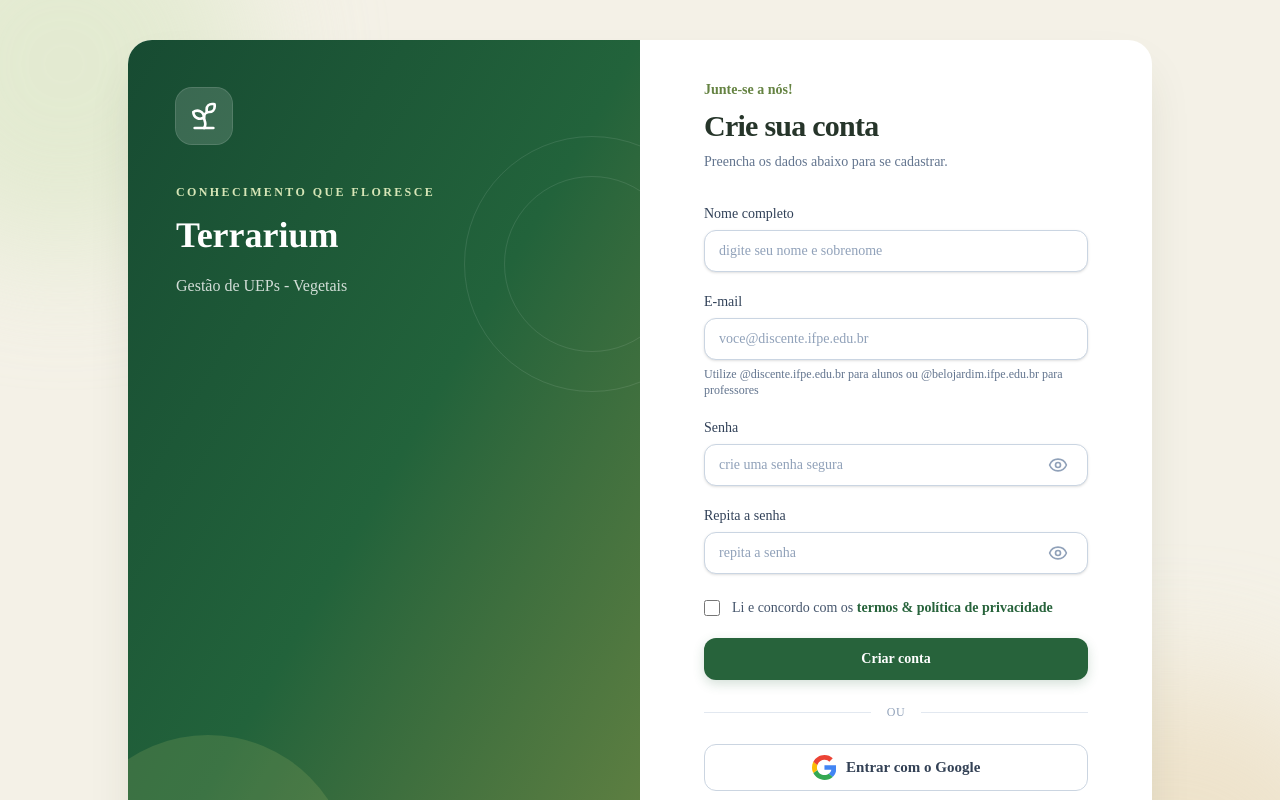
Test: RegisterPage › deve exibir erro se o e-mail for informado em formato inválido
Type "Isabela Santos" into the field labelled "Nome completo" at (896, 251), box x1=704 y1=230 x2=1088 y2=272
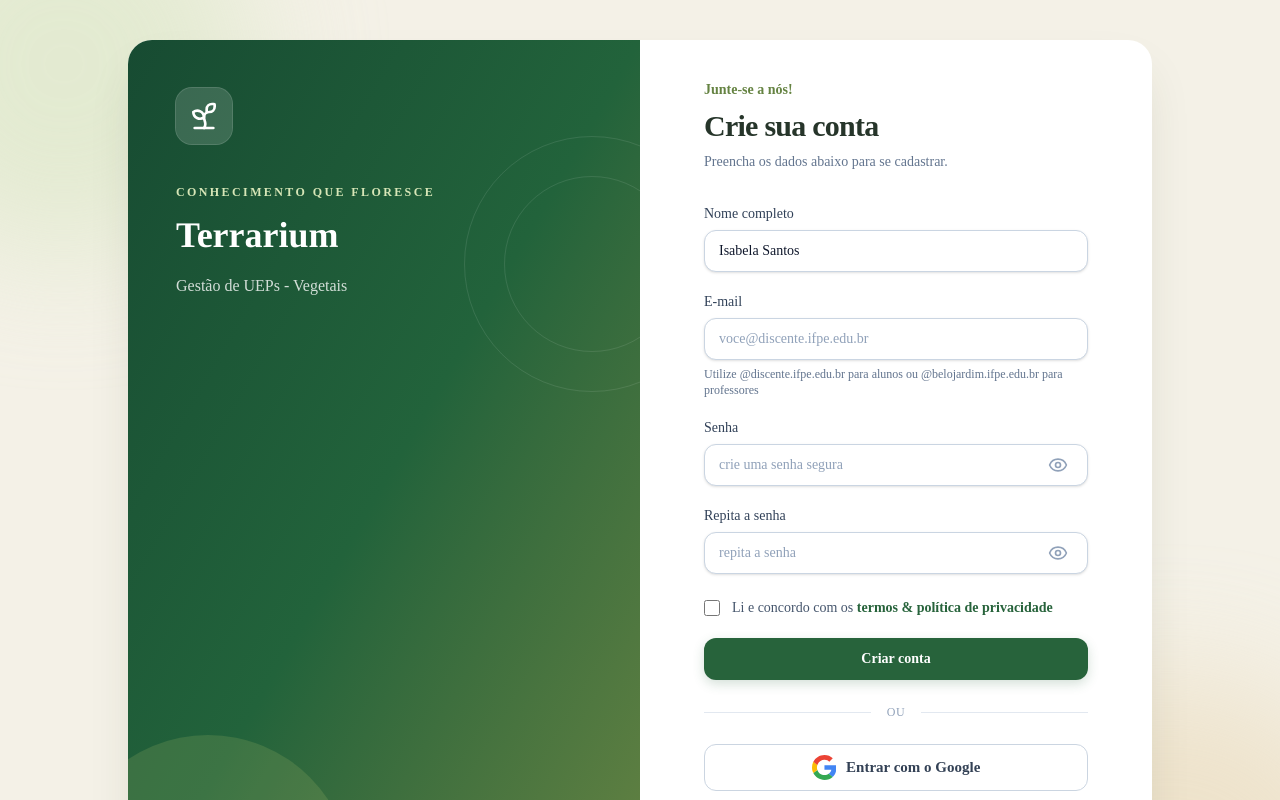
Type "emailinvalido" into the field labelled "E-mail" at (896, 339), box x1=704 y1=318 x2=1088 y2=360
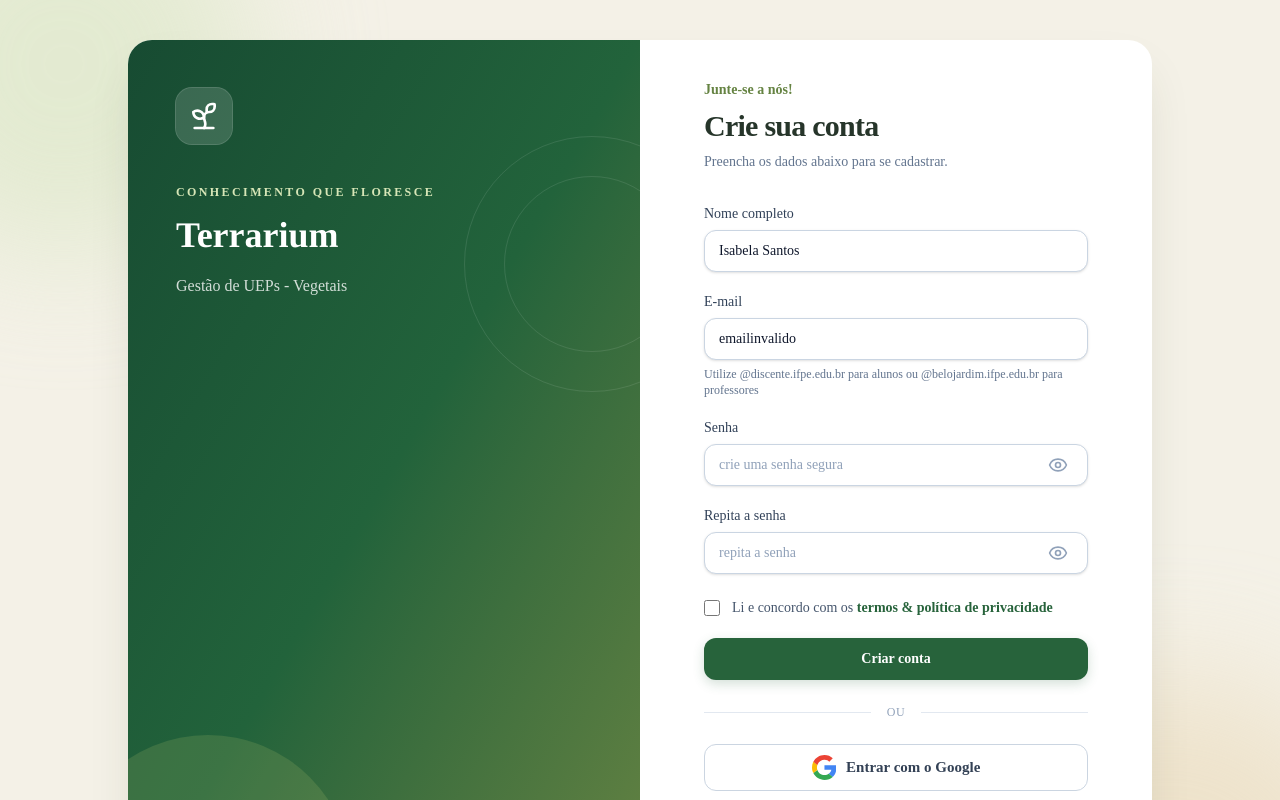
Type "SenhaValida123" into the password field labelled "Senha" at (896, 465), box x1=704 y1=444 x2=1088 y2=486
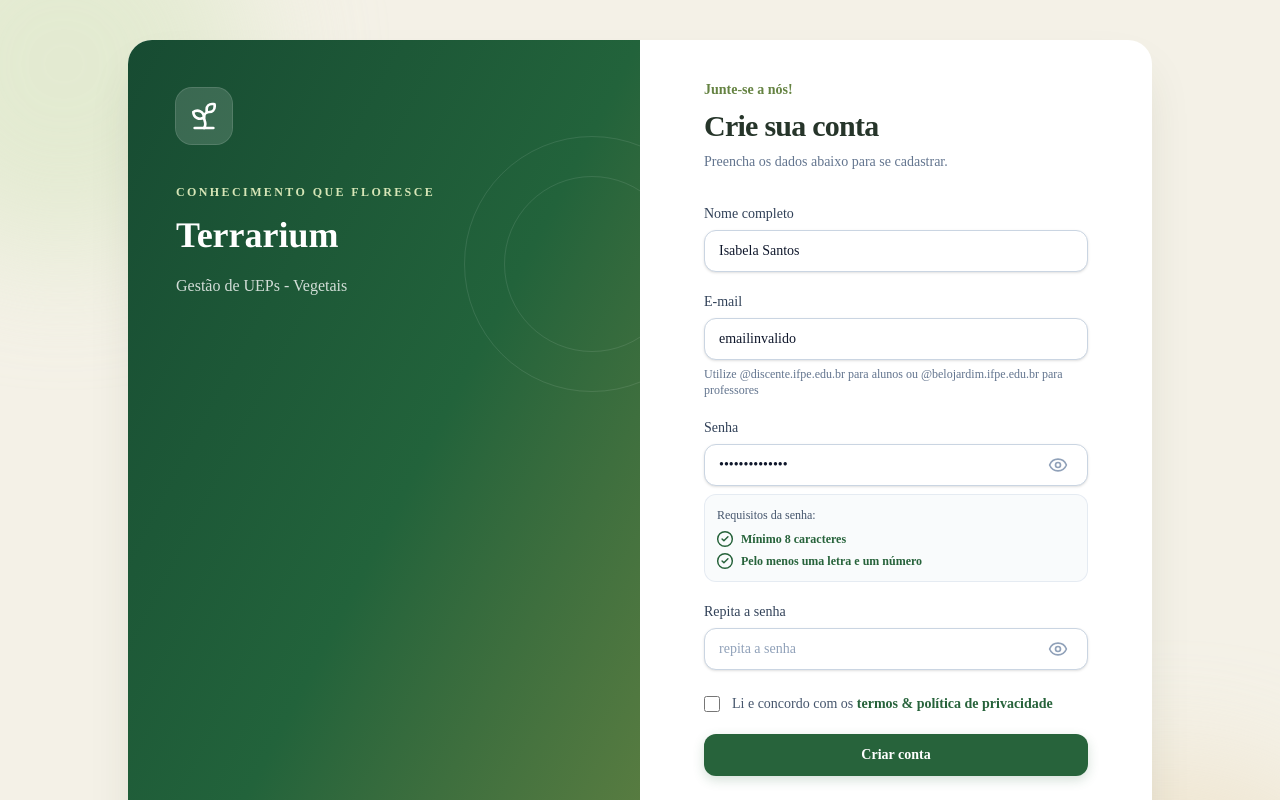
Type "SenhaValida123" into the password field labelled "Repita a senha" at (896, 649), box x1=704 y1=628 x2=1088 y2=670
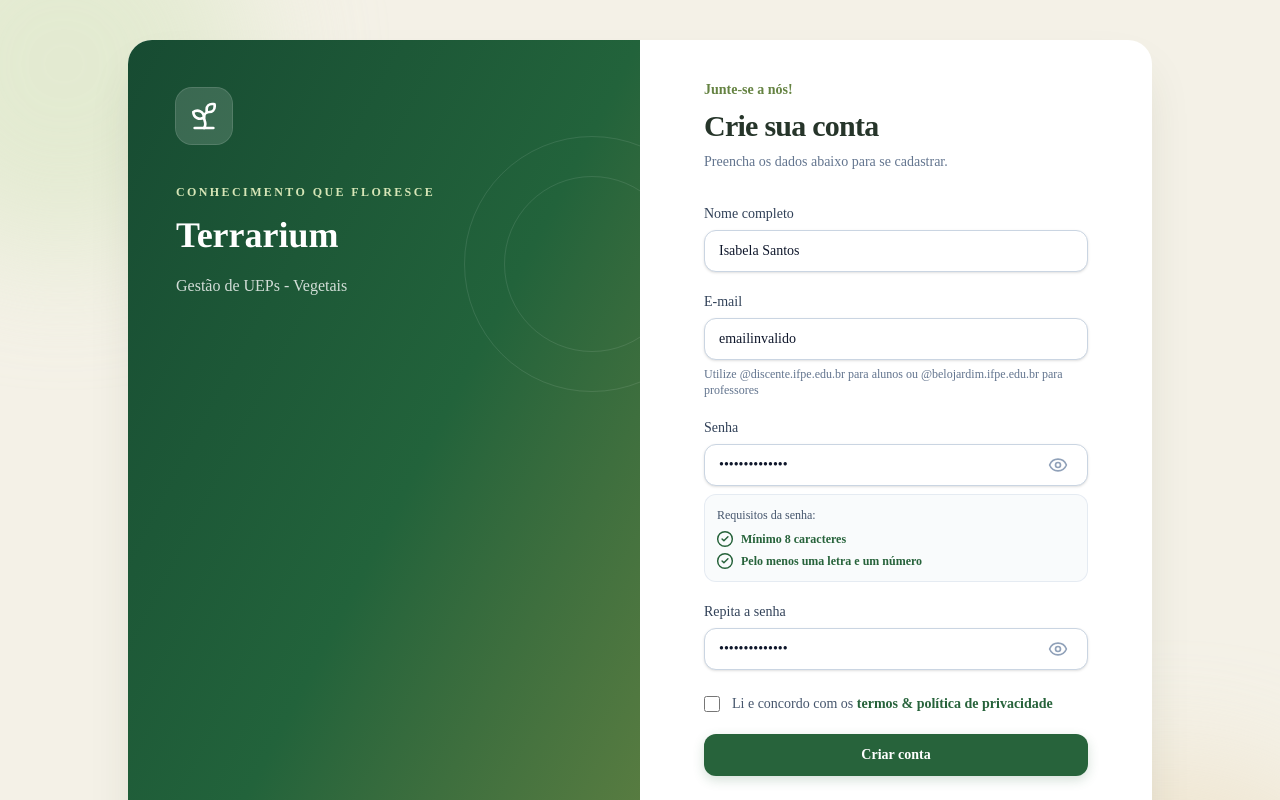
Click the button "Criar conta" at (896, 755), box x1=704 y1=734 x2=1088 y2=776
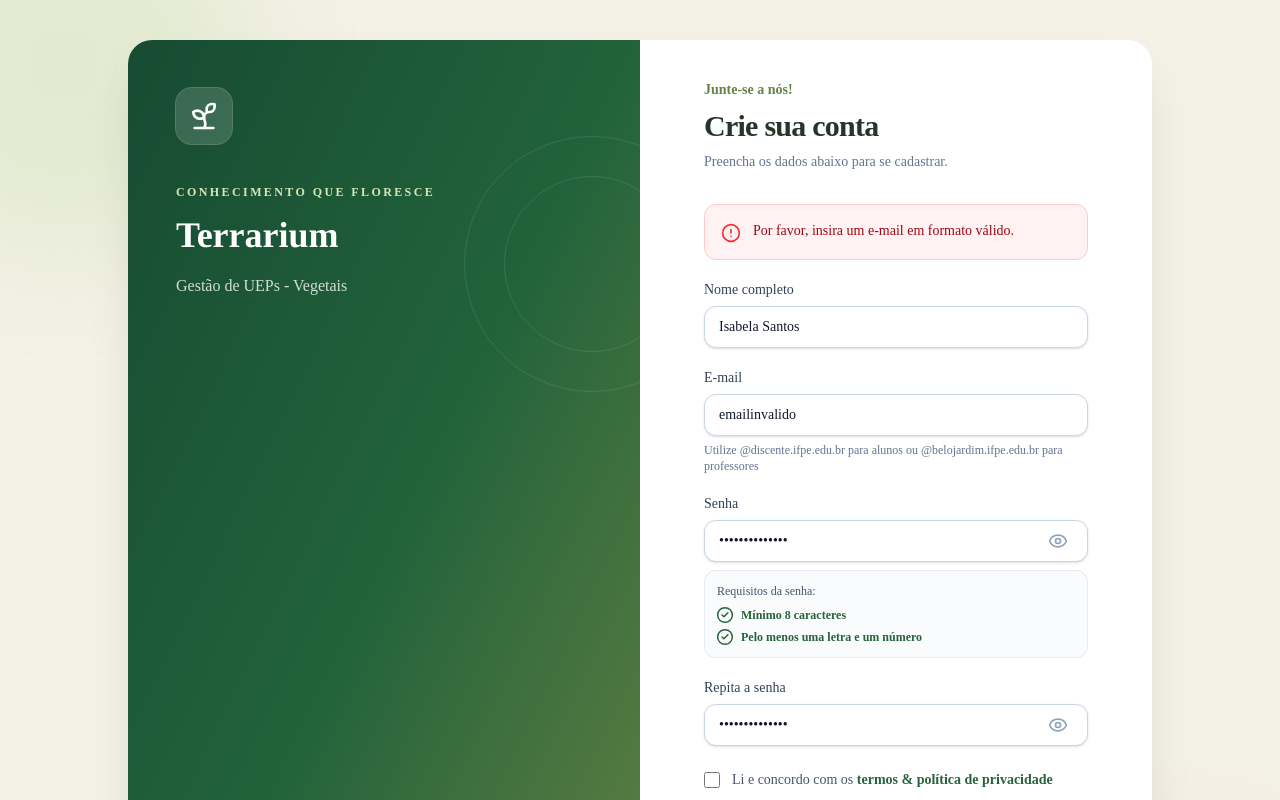
Now the text "Por favor, insira um e-mail em formato válido." is shown, box x1=753 y1=221 x2=1014 y2=241
